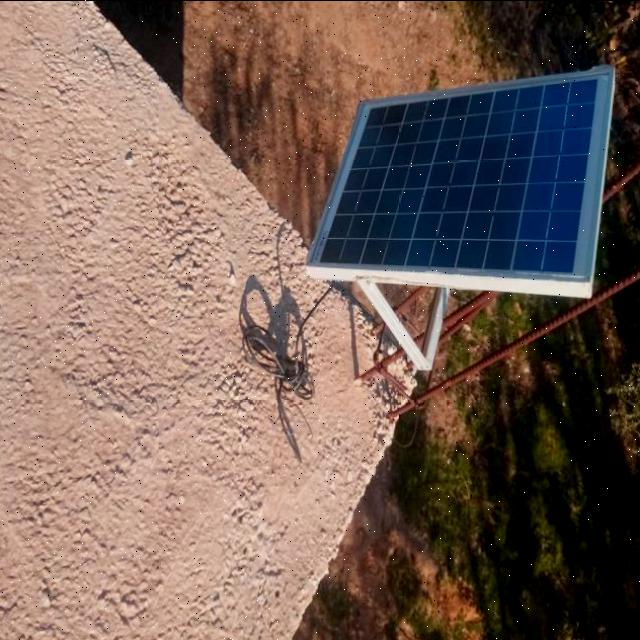Normal Solar Panel: (307, 68, 615, 282)
